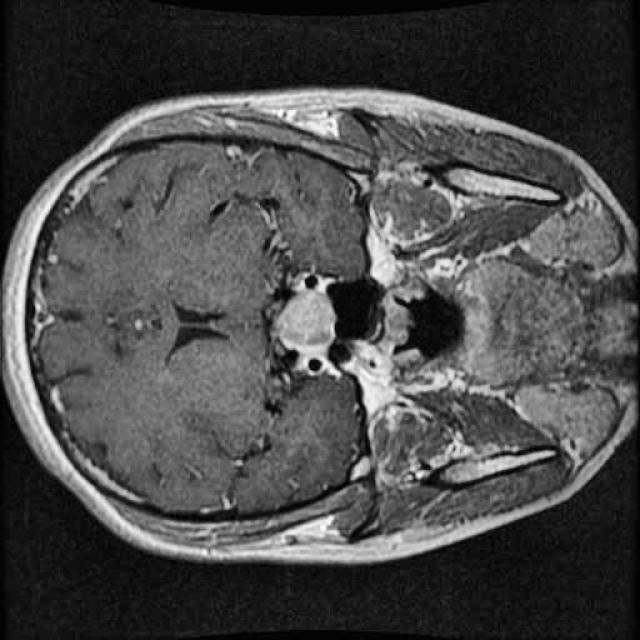Tumor: (269, 271, 346, 365)
